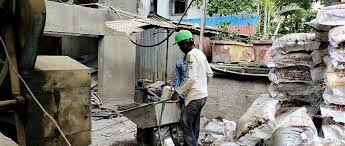arm: (170, 55, 194, 97)
face: (175, 37, 189, 51)
glove: (168, 87, 180, 100)
helmet: (171, 26, 193, 46)
human: (164, 23, 215, 146)
leg: (180, 95, 201, 146)
novest: (175, 47, 209, 98)
